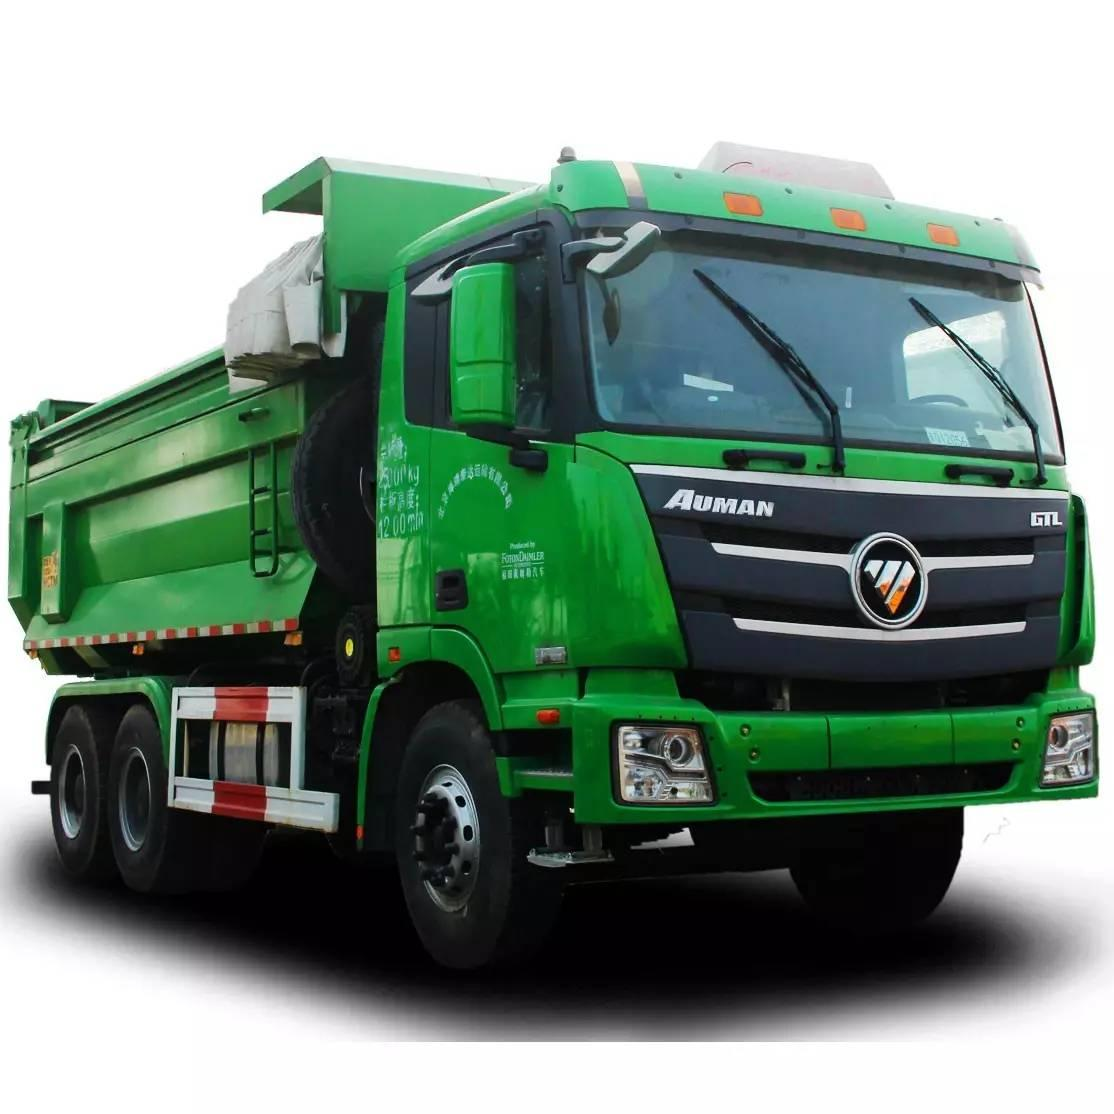truck: (10, 97, 1107, 1014)
